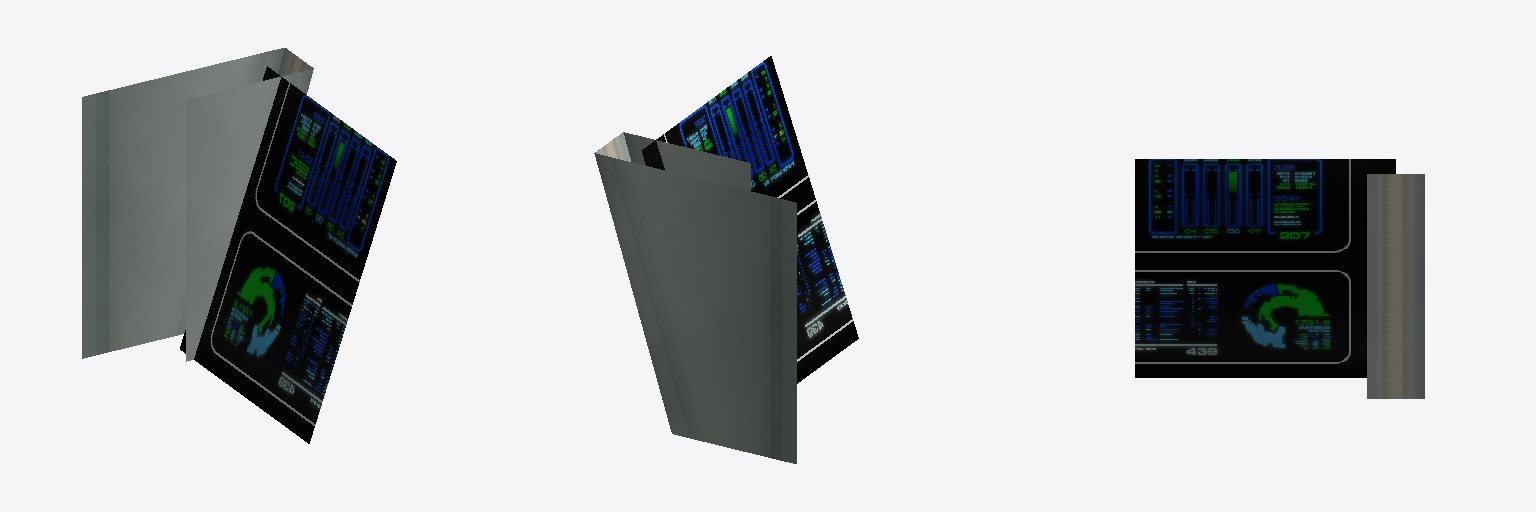
3 views of the same model, side by side, from view 1: azimuth 30°, elevation 25°; view 2: azimuth 150°, elevation 25°; view 3: azimuth 270°, elevation 25° (orthographic).
Parts seen in each view (by area): view 1: console_middle_right_Cube.007; view 2: console_middle_right_Cube.007; view 3: console_middle_right_Cube.007.
Part boxes in pixels (x1,y1,x2,y2): console_middle_right_Cube.007: (82, 48, 396, 443); console_middle_right_Cube.007: (594, 56, 858, 463); console_middle_right_Cube.007: (1135, 159, 1424, 398).
Size of the model in its own units: 0.81 by 1 by 1.
Materials: 3 (3 with a texture image).